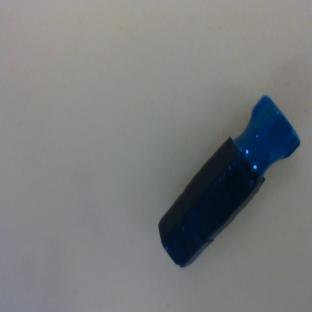part_2_bad: (141, 94, 310, 272)
